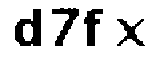7: (49, 6, 80, 52)
d: (9, 7, 46, 56)
f: (82, 5, 103, 51)
x: (112, 16, 148, 50)
